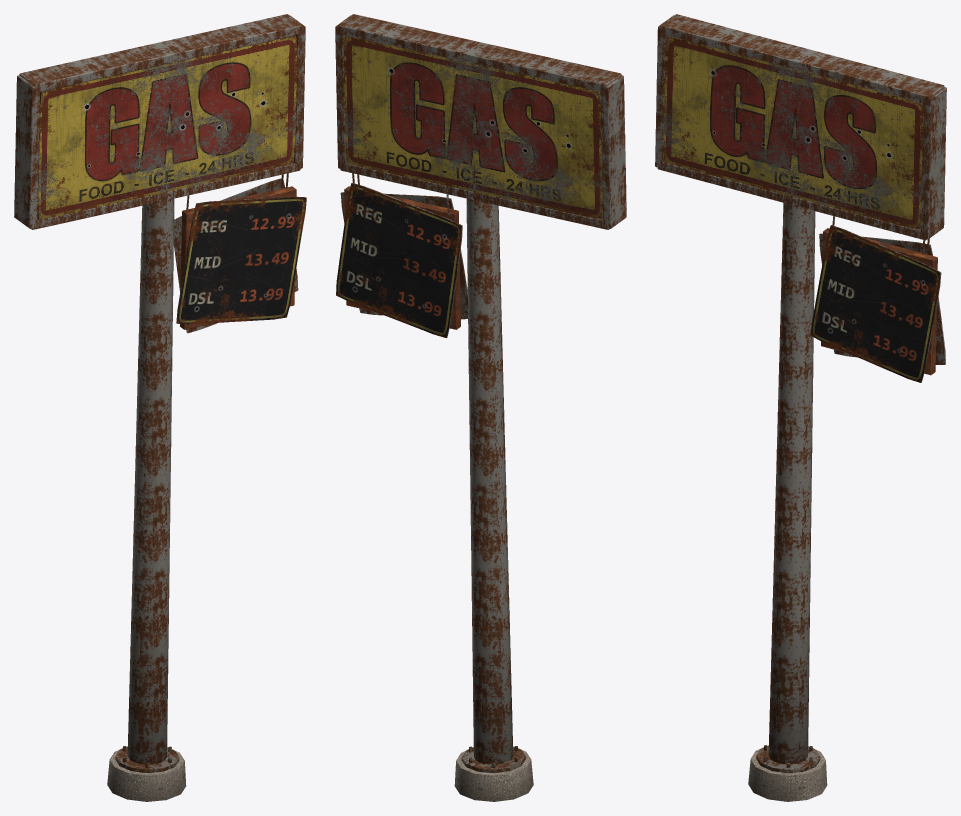
Rendered from sign_gas.glb.
3 renders of one model, left to right at view 1: azimuth 30°, elevation 25°; view 2: azimuth 150°, elevation 25°; view 3: azimuth 330°, elevation 25°, orthographic.
Parts seen in each view (by area): view 1: sign_gas_galvanized, sign_gas_sign_gas_cabinet, sign_gas_sign_gas_prices, sign_gas_concrete, sign_gas_rust_metal; view 2: sign_gas_galvanized, sign_gas_sign_gas_cabinet, sign_gas_sign_gas_prices, sign_gas_concrete, sign_gas_rust_metal; view 3: sign_gas_galvanized, sign_gas_sign_gas_cabinet, sign_gas_sign_gas_prices, sign_gas_concrete, sign_gas_rust_metal.
Part boxes in pixels (x1,y1,x2,y2): sign_gas_galvanized: (14,14,306,773); sign_gas_sign_gas_cabinet: (38,36,297,218); sign_gas_sign_gas_prices: (177,197,306,324); sign_gas_concrete: (107,750,186,801); sign_gas_rust_metal: (37,35,296,329); sign_gas_galvanized: (335,14,626,773); sign_gas_sign_gas_cabinet: (344,36,602,218); sign_gas_sign_gas_prices: (336,183,461,337); sign_gas_concrete: (454,750,533,801); sign_gas_rust_metal: (344,35,603,329); sign_gas_galvanized: (655,14,946,773); sign_gas_sign_gas_cabinet: (663,36,922,228); sign_gas_sign_gas_prices: (811,226,940,382); sign_gas_concrete: (748,749,827,801); sign_gas_rust_metal: (667,35,937,375).
Size of the model in its own units: 3.45 by 8.64 by 0.84.
Materials: 5 (5 with a texture image).
